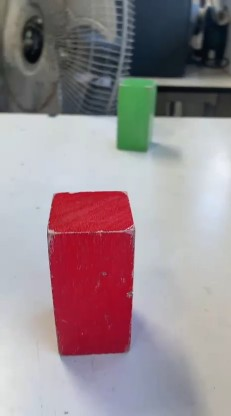red: (55, 175, 139, 368)
